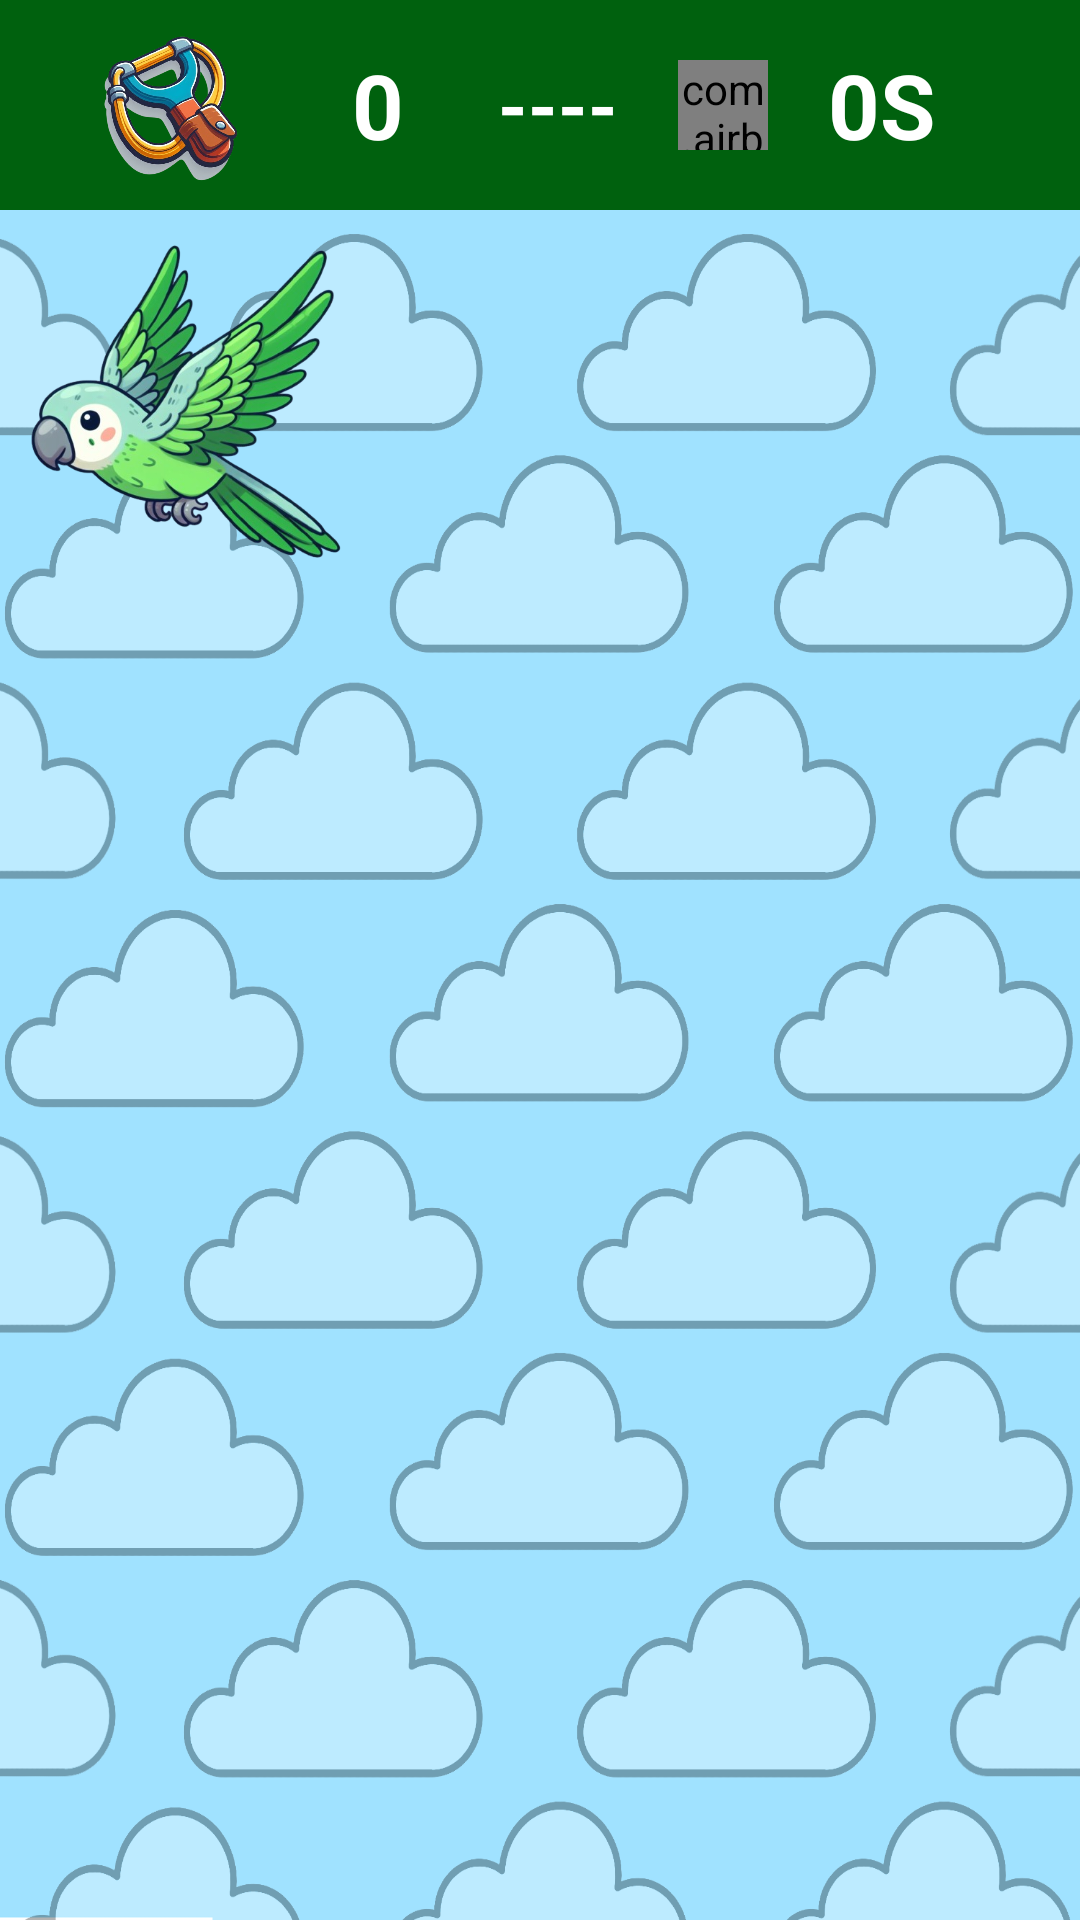

Point at icon controls on the screen. Image size 1080px x 1920px, points as point (x, y).
cotorra: point (180, 405)
tira: point (170, 108)
